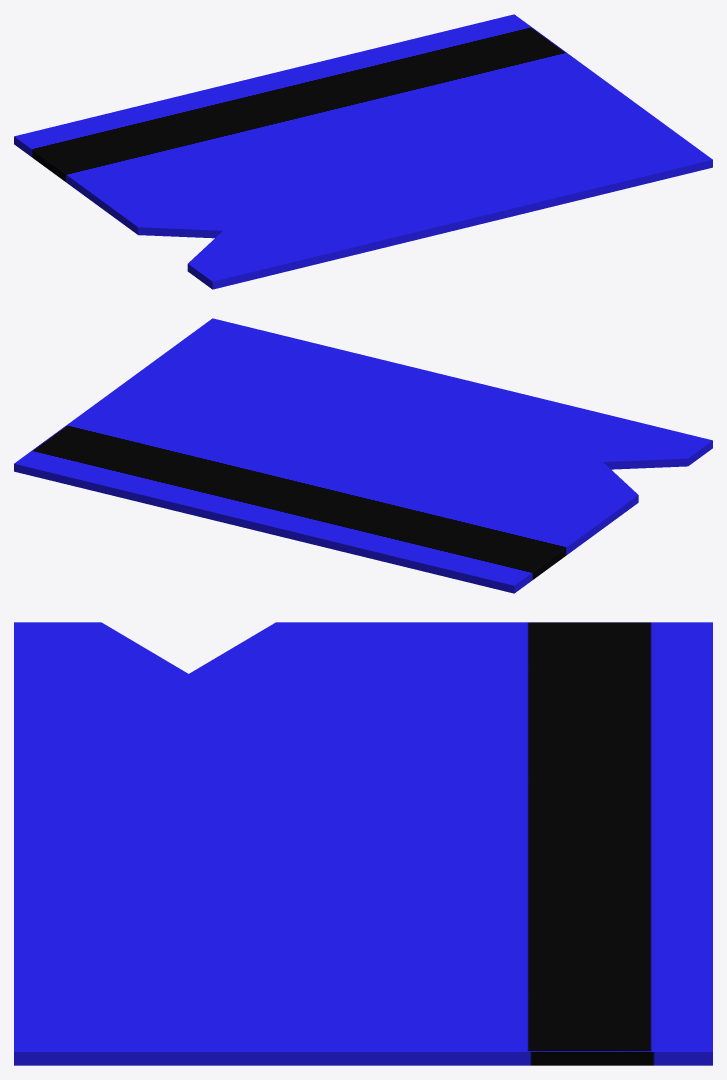
The model's file is blue_keycard.glb.
3 renders of one model, top to bottom at view 1: azimuth 30°, elevation 25°; view 2: azimuth 150°, elevation 25°; view 3: azimuth 270°, elevation 25°, orthographic. The views are drawn at different scales.
Visible parts, largest first — view 1: Cube; view 2: Cube; view 3: Cube.
Boxes of the visible parts, left/top/right/bottom form: Cube: left=14, top=14, right=712, bottom=289; Cube: left=14, top=318, right=712, bottom=593; Cube: left=14, top=622, right=712, bottom=1065.
Size of the model in its own units: 2.91 by 0.0438 by 2.
1 material, 1 textured.
